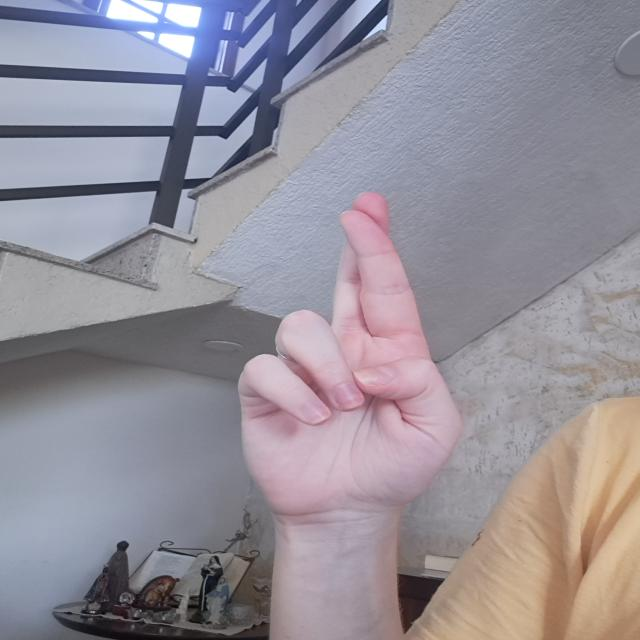R: (232, 187, 470, 538)
